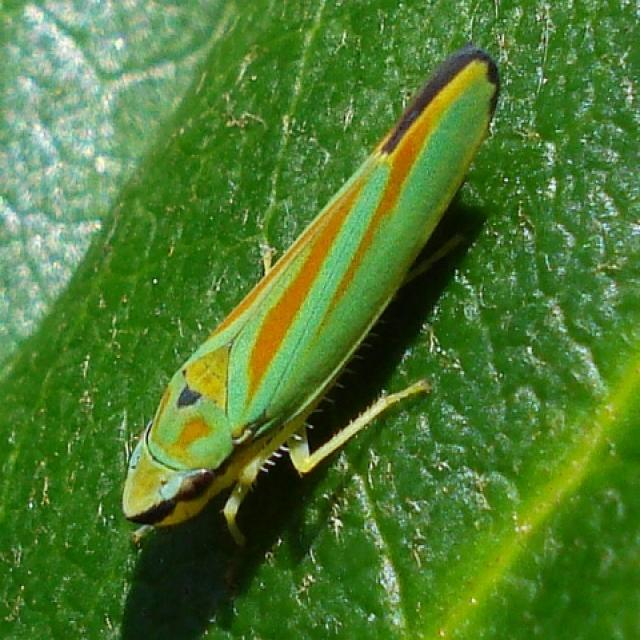Yechan: (96, 47, 518, 554)
